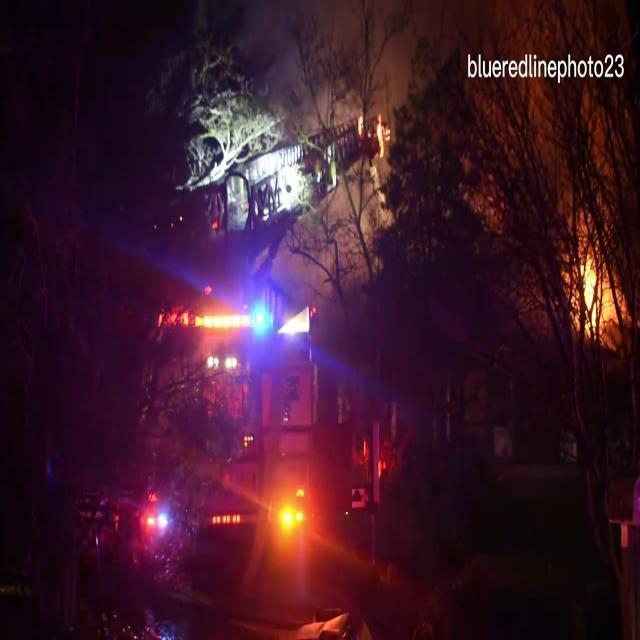Fire: (570, 231, 612, 343)
